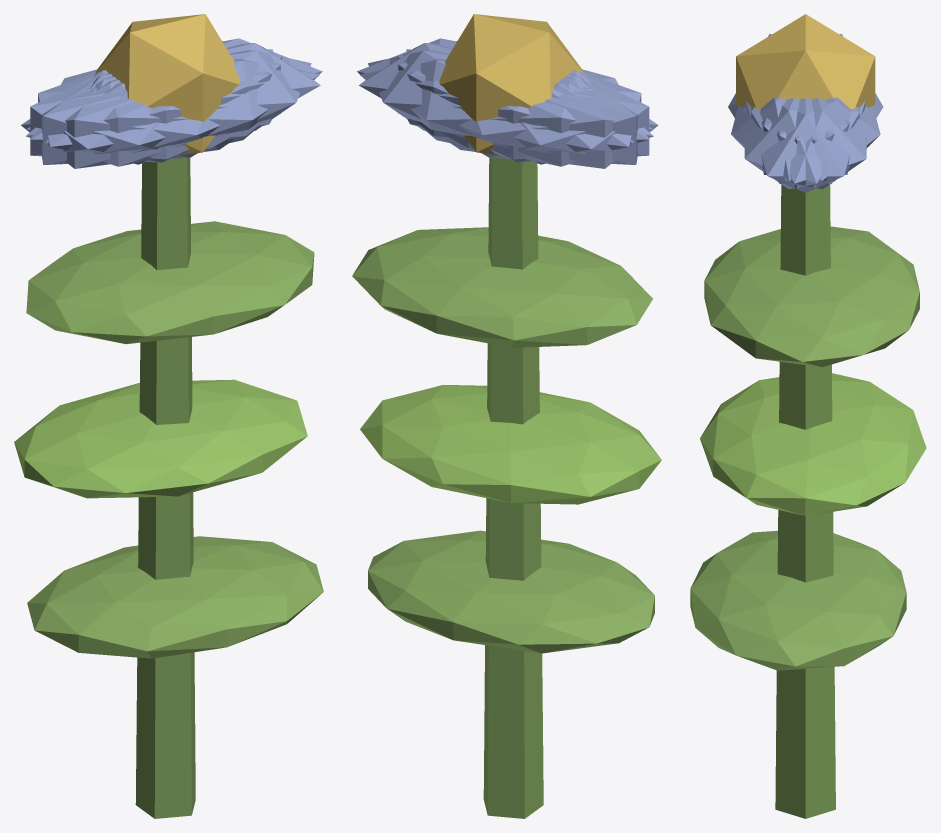
The model's file is mikania-micrantha.glb.
3 renders of one model, left to right at view 1: azimuth 30°, elevation 25°; view 2: azimuth 150°, elevation 25°; view 3: azimuth 270°, elevation 25°, orthographic.
Visible parts, largest first — view 1: leaf0, leaf2, leaf1, stem, center, petal1, petal6, petal2, petal5, petal7, petal0, petal4 (+2 smaller); view 2: leaf1, leaf2, leaf0, stem, center, petal8, petal3, petal7, petal4, petal2, petal0, petal5 (+2 smaller); view 3: leaf2, leaf1, leaf0, stem, center, petal0, petal5, petal4, petal1, petal8.
Boxes of the visible parts, box(x1,y1,x2,y2) form: leaf0: box(27, 536, 323, 658); leaf2: box(26, 221, 314, 344); leaf1: box(14, 379, 307, 498); stem: box(135, 157, 195, 818); center: box(95, 14, 240, 154); petal1: box(25, 58, 319, 166); petal6: box(21, 72, 233, 168); petal2: box(41, 49, 273, 164); petal5: box(45, 50, 311, 159); petal7: box(30, 55, 281, 162); petal0: box(95, 43, 320, 148); petal4: box(27, 38, 322, 139); leaf1: box(360, 385, 661, 504); leaf2: box(352, 227, 652, 347); leaf0: box(368, 530, 654, 653); stem: box(483, 157, 543, 818); center: box(439, 14, 584, 154); petal8: box(359, 58, 653, 166); petal3: box(445, 71, 658, 168); petal7: box(406, 49, 637, 164); petal4: box(368, 50, 633, 159); petal2: box(397, 55, 649, 162); petal0: box(359, 43, 584, 148); petal5: box(357, 38, 652, 139); leaf2: box(704, 226, 919, 367); leaf1: box(700, 373, 926, 515); leaf0: box(690, 530, 906, 670); stem: box(775, 184, 835, 818); center: box(736, 14, 875, 109); petal0: box(746, 98, 865, 192); petal5: box(744, 98, 859, 189); petal4: box(751, 98, 867, 189); petal1: box(731, 97, 849, 181); petal8: box(761, 97, 880, 181).
Bounding box in the file's own units: 0.1452 × 0.3752 × 0.1039.
